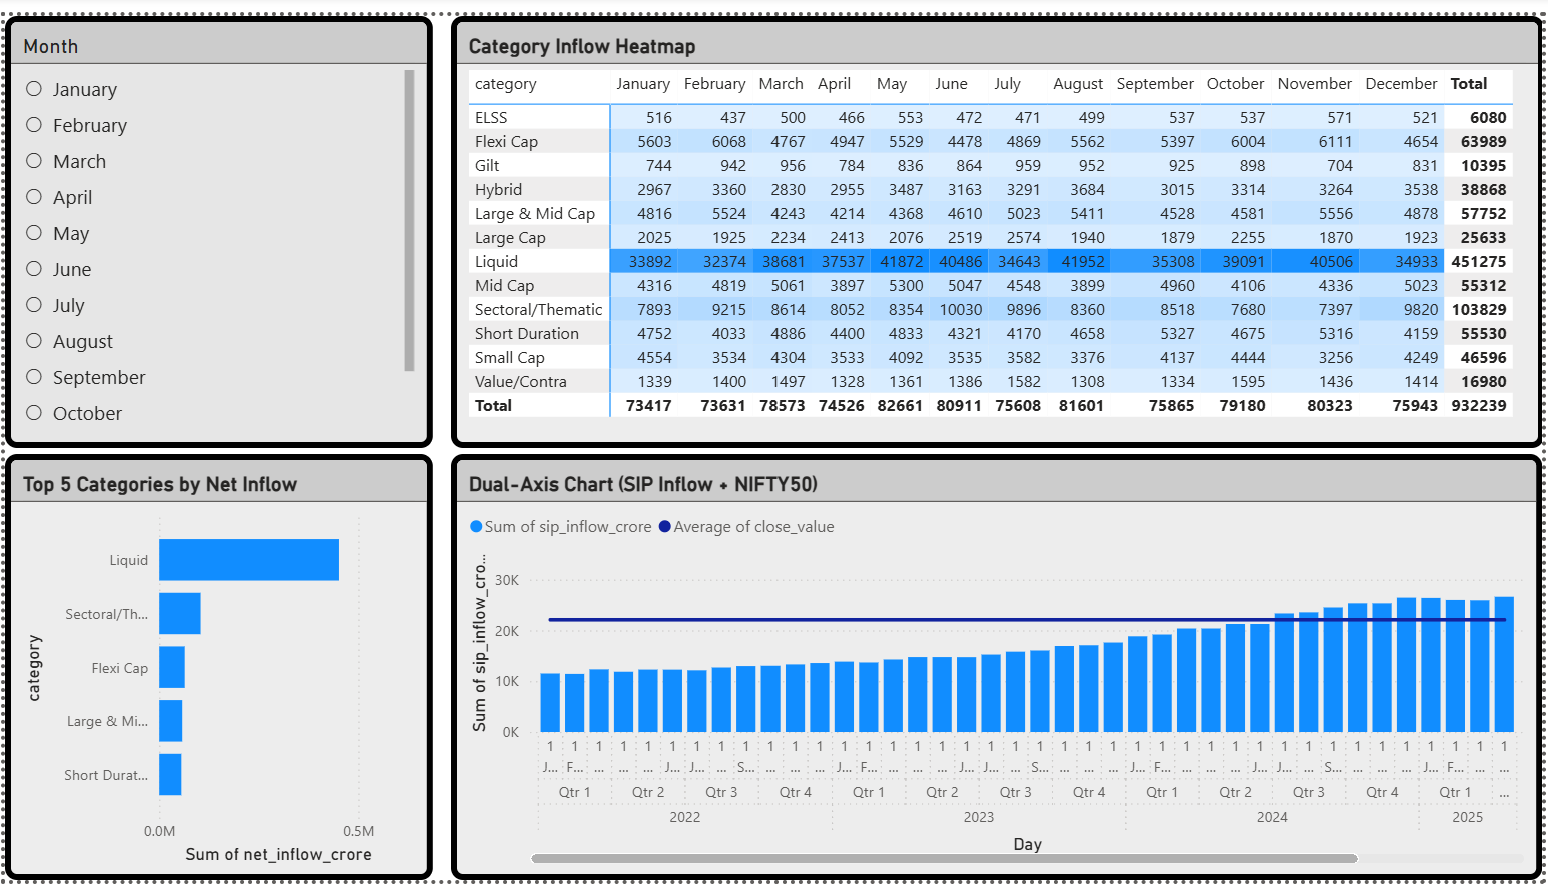

The dashboard page shown, as its layout file describes it:
{"tool":"powerbi","page":{"name":"SIP & Market Trends","canvas":[1280,720],"ordinal":3},"visuals":[{"type":"lineClusteredColumnComboChart","title":"Dual-Axis Chart (SIP Inflow + NIFTY50)","fields":{"Y":["Sum(04_monthly_sip_inflows.sip_inflow_crore)"],"Y2":["Avg(10_benchmark_indices.close_value)"],"Category":["04_monthly_sip_inflows.month.Variation.Date Hierarchy.Year","04_monthly_sip_inflows.month.Variation.Date Hierarchy.Quarter","04_monthly_sip_inflows.month.Variation.Date Hierarchy.Month","04_monthly_sip_inflows.month.Variation.Date Hierarchy.Day"]},"box":[371.7,365,908.3,355],"z":0},{"type":"pivotTable","title":"Category Inflow Heatmap","fields":{"Rows":["05_category_inflows.category"],"Columns":["05_category_inflows.month.Variation.Date Hierarchy.Month"],"Values":["Sum(05_category_inflows.net_inflow_crore)"]},"box":[371.7,0,910,360],"z":1000},{"type":"clusteredBarChart","title":"Top 5 Categories by Net Inflow","fields":{"Category":["05_category_inflows.category"],"Y":["Sum(05_category_inflows.net_inflow_crore)"]},"box":[0,365,356.7,355],"z":2000},{"type":"listSlicer","fields":{"Values":["05_category_inflows.month.Variation.Date Hierarchy.Month"]},"box":[0,0,356.7,360],"z":3000}]}

Visuals, with their boxes in screenshot pixels (x1, y1, x2, y2), scaled from the page's 1280x720 canvas onto the 1548x886 screenshot:
"Dual-Axis Chart (SIP Inflow + NIFTY50)" lineClusteredColumnComboChart: [x1=450, y1=449, x2=1547, y2=885]
"Category Inflow Heatmap" pivotTable: [x1=450, y1=0, x2=1547, y2=443]
"Top 5 Categories by Net Inflow" clusteredBarChart: [x1=0, y1=449, x2=431, y2=885]
listSlicer - 05_category_inflows.month.Variation.Date Hierarchy.Month: [x1=0, y1=0, x2=431, y2=443]
